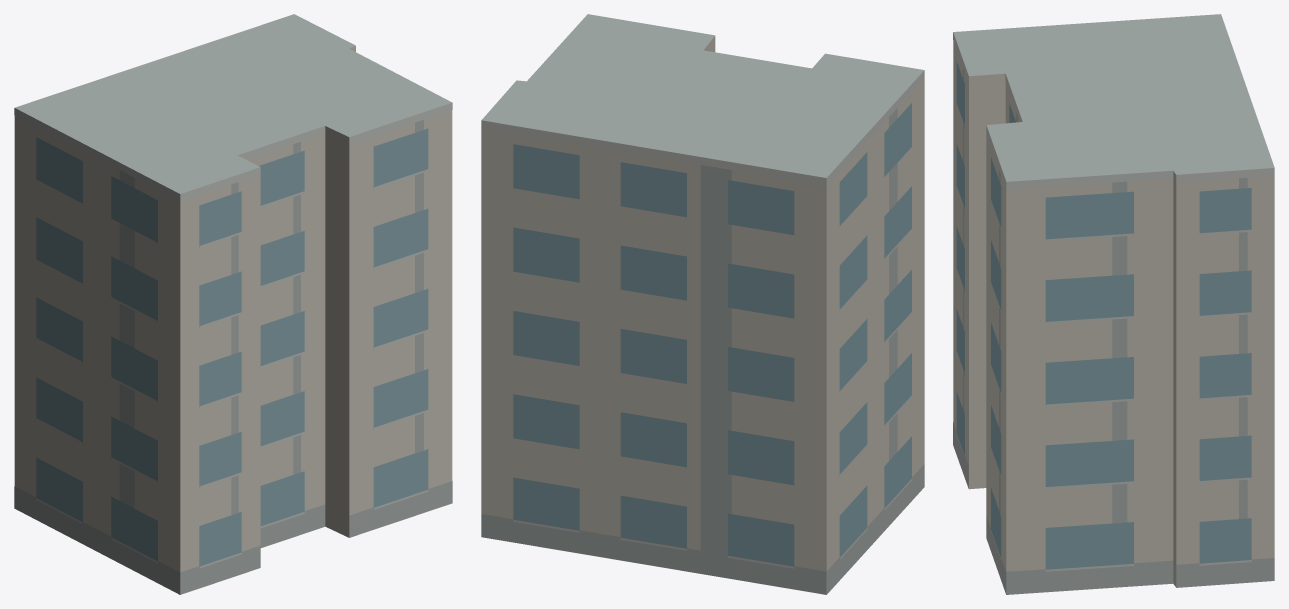
File: survey-upis-32988558.glb
The picture shows the model from 3 angles, left to right: view 1: azimuth 30°, elevation 25°; view 2: azimuth 150°, elevation 25°; view 3: azimuth 270°, elevation 25°; orthographic projection. The views are drawn at different scales.
Parts seen in each view (by area): view 1: survey-upis-32988558.tmp; view 2: survey-upis-32988558.tmp; view 3: survey-upis-32988558.tmp.
Boxes of the visible parts, x1,y1,x2,y2 form: survey-upis-32988558.tmp: (14,14,452,594); survey-upis-32988558.tmp: (481,14,924,594); survey-upis-32988558.tmp: (953,14,1274,594).
Size of the model in its own units: 11.26 by 12.9 by 9.11.
